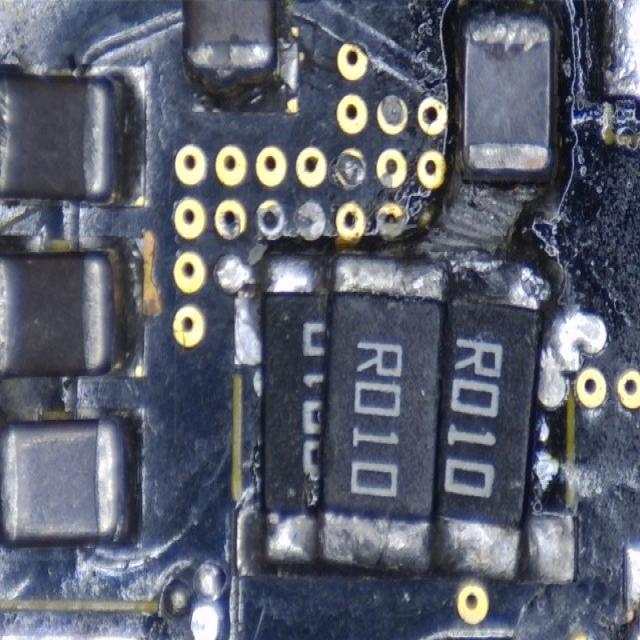Incorrect_installation: (230, 250, 579, 585)
Short_circuit: (213, 141, 608, 408), (235, 508, 575, 585)
